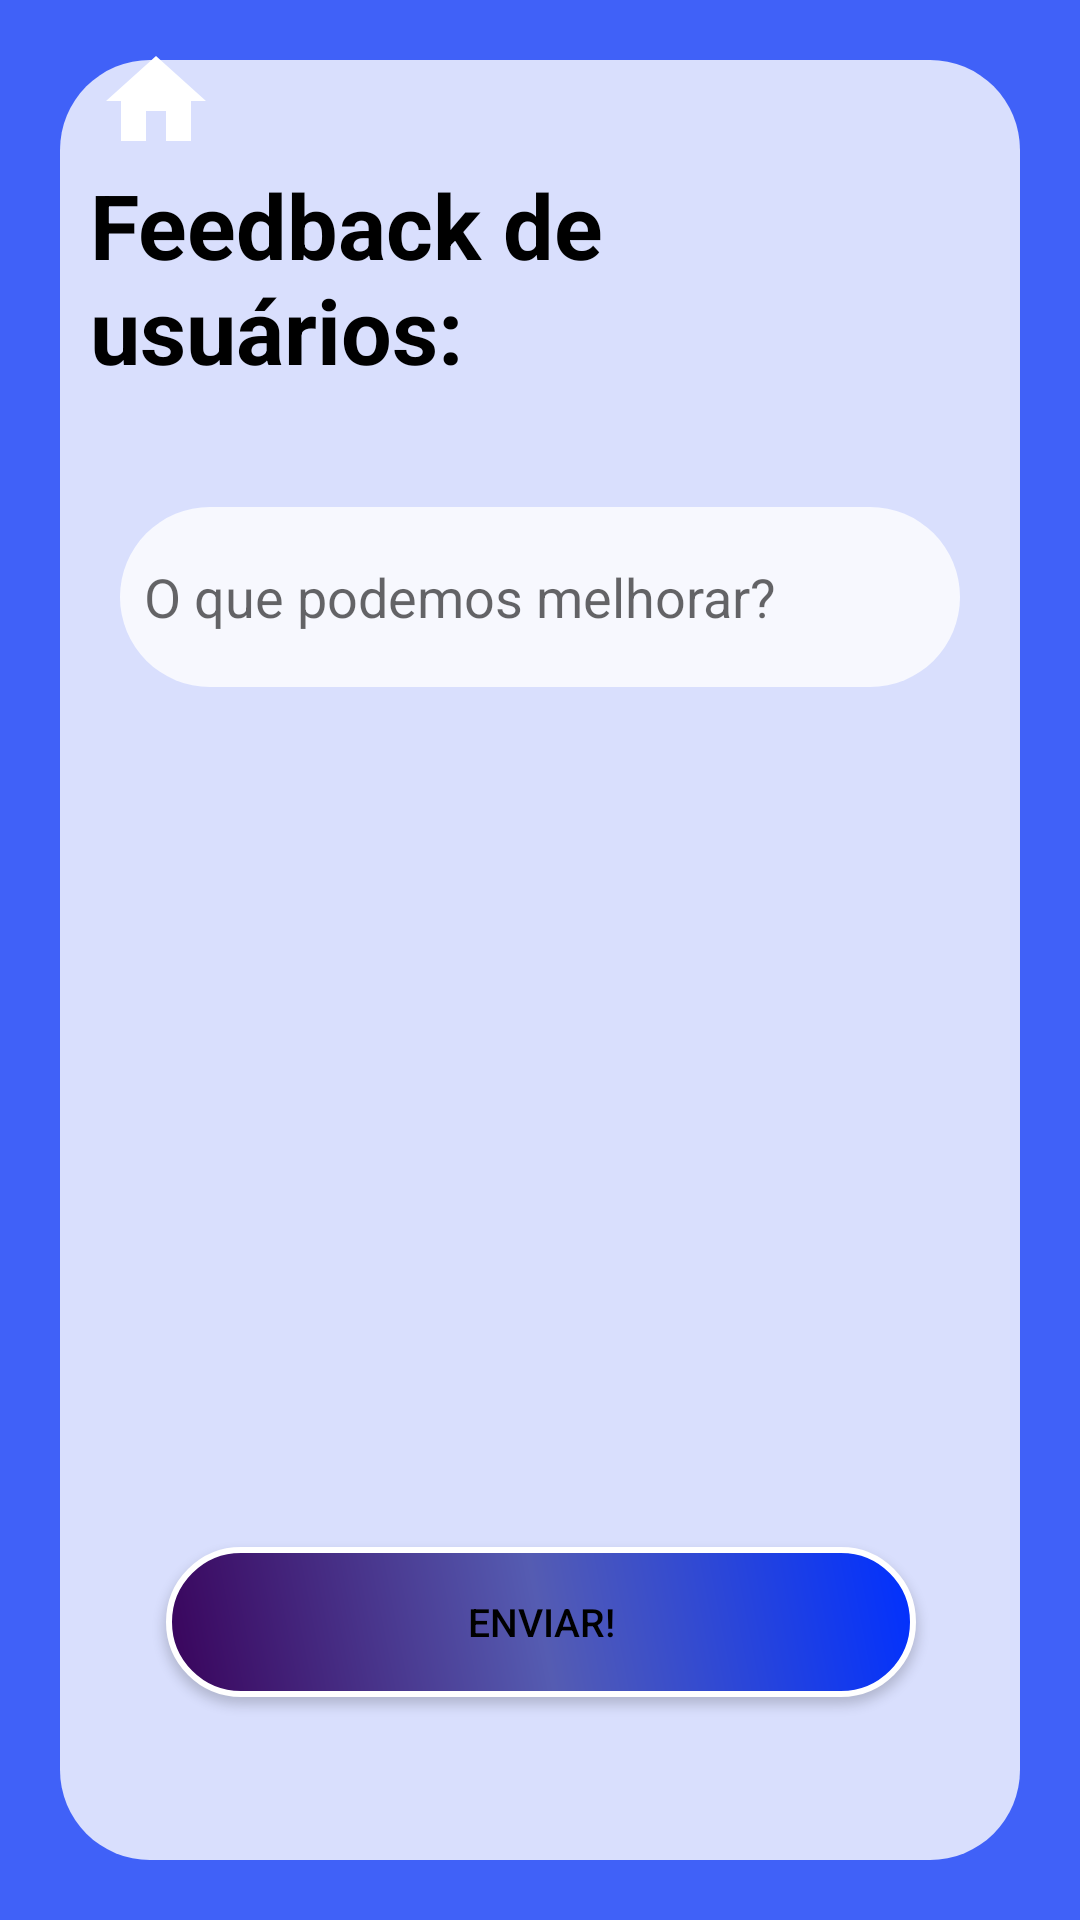

Named icons in this screenshot (1080px x 1920px) and their bounding boxes, box(x1, y1, x2, y2):
homeblack: box(96, 41, 216, 141)
